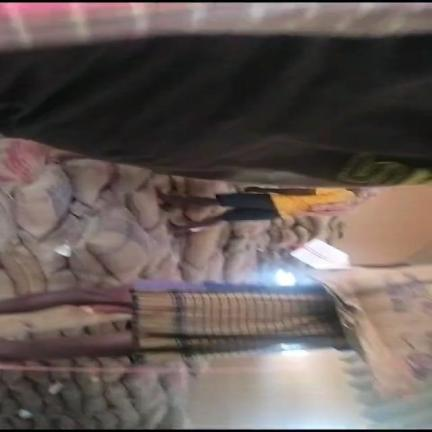Zone-Counting: (0, 266, 431, 394)
